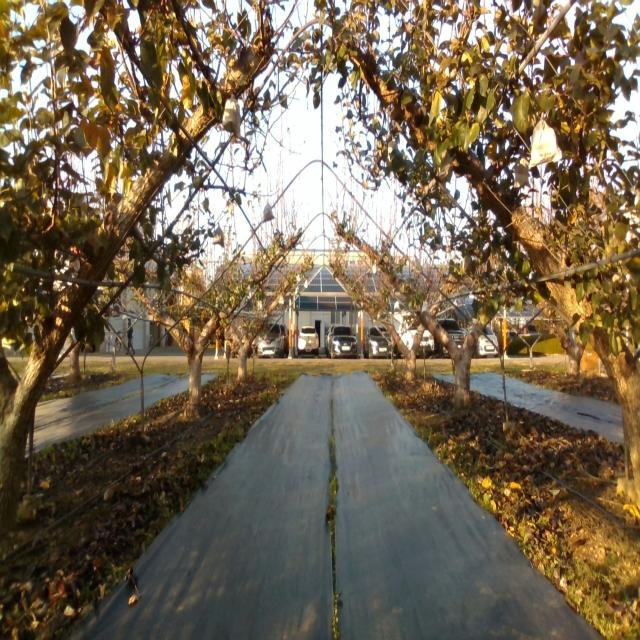pearbags: (529, 119, 563, 170), (221, 98, 241, 138), (513, 158, 531, 190), (212, 223, 225, 247), (262, 201, 274, 222)
